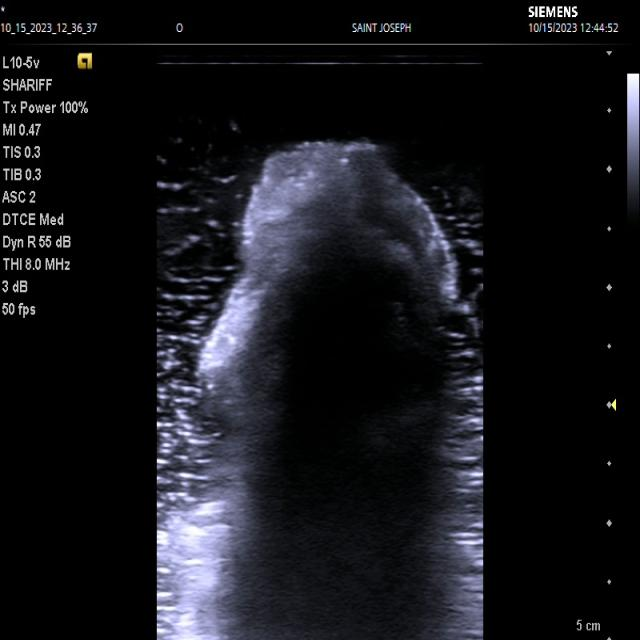tissue: (178, 144, 466, 640)
